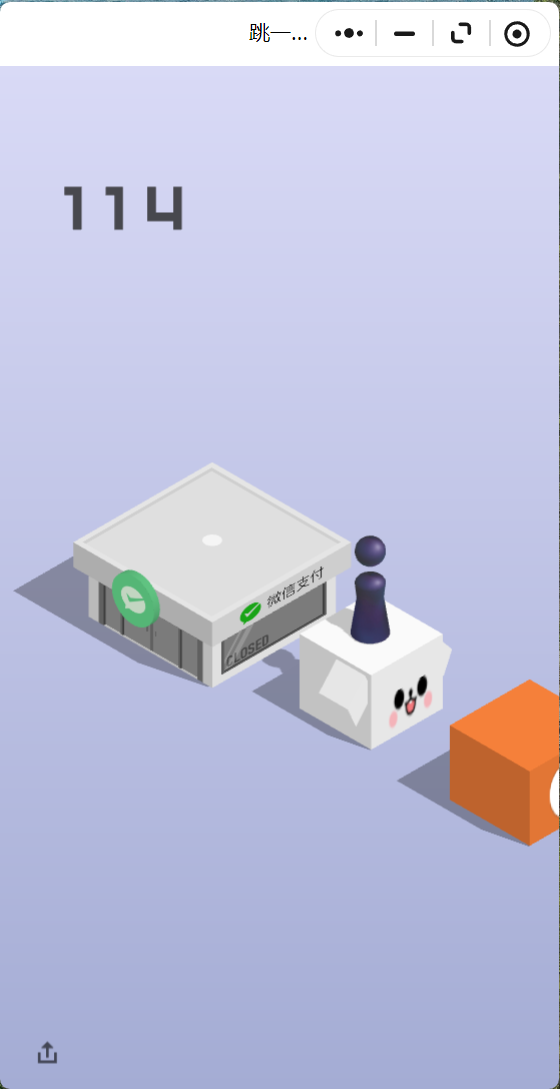piece: (355, 535, 385, 638)
target: (74, 461, 351, 622)
